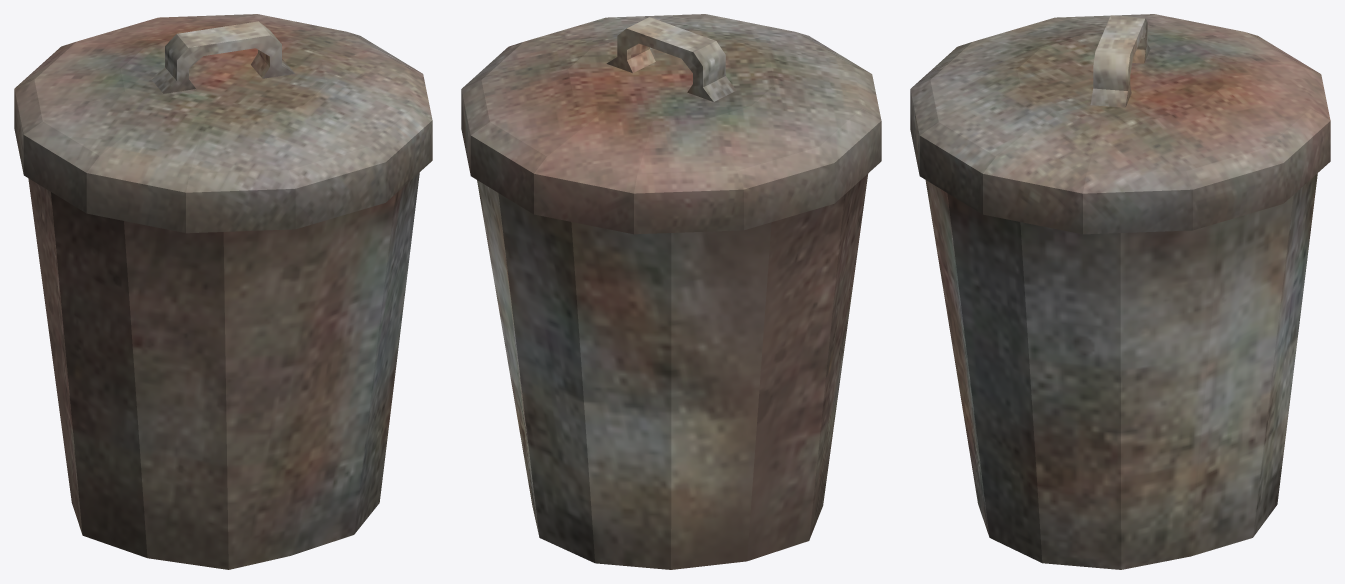
Rendered from Digdig Soptunna.fbx.
3 renders of one model, left to right at view 1: azimuth 30°, elevation 25°; view 2: azimuth 150°, elevation 25°; view 3: azimuth 270°, elevation 25°, orthographic.
Visible parts, largest first — view 1: pCylinder1, pCube2; view 2: pCylinder1, pCube2; view 3: pCylinder1, pCube2.
Part boxes in pixels (x1=…): pCylinder1: x1=28, y1=172, x2=419, y2=569; pCube2: x1=14, y1=14, x2=432, y2=233; pCylinder1: x1=477, y1=173, x2=868, y2=569; pCube2: x1=461, y1=14, x2=881, y2=234; pCylinder1: x1=925, y1=173, x2=1317, y2=569; pCube2: x1=910, y1=14, x2=1330, y2=234.
Size of the model in its own units: 2.09 by 2.58 by 2.09.
